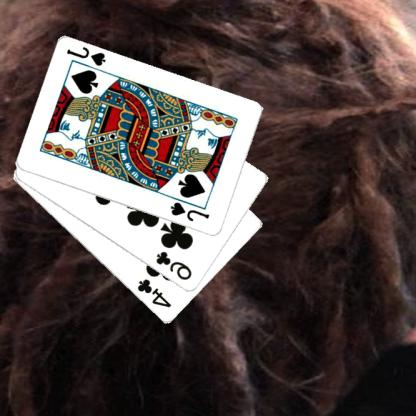4C: (136, 276, 174, 309)
9C: (155, 249, 195, 282)
JS: (170, 199, 212, 224), (66, 44, 108, 67)
